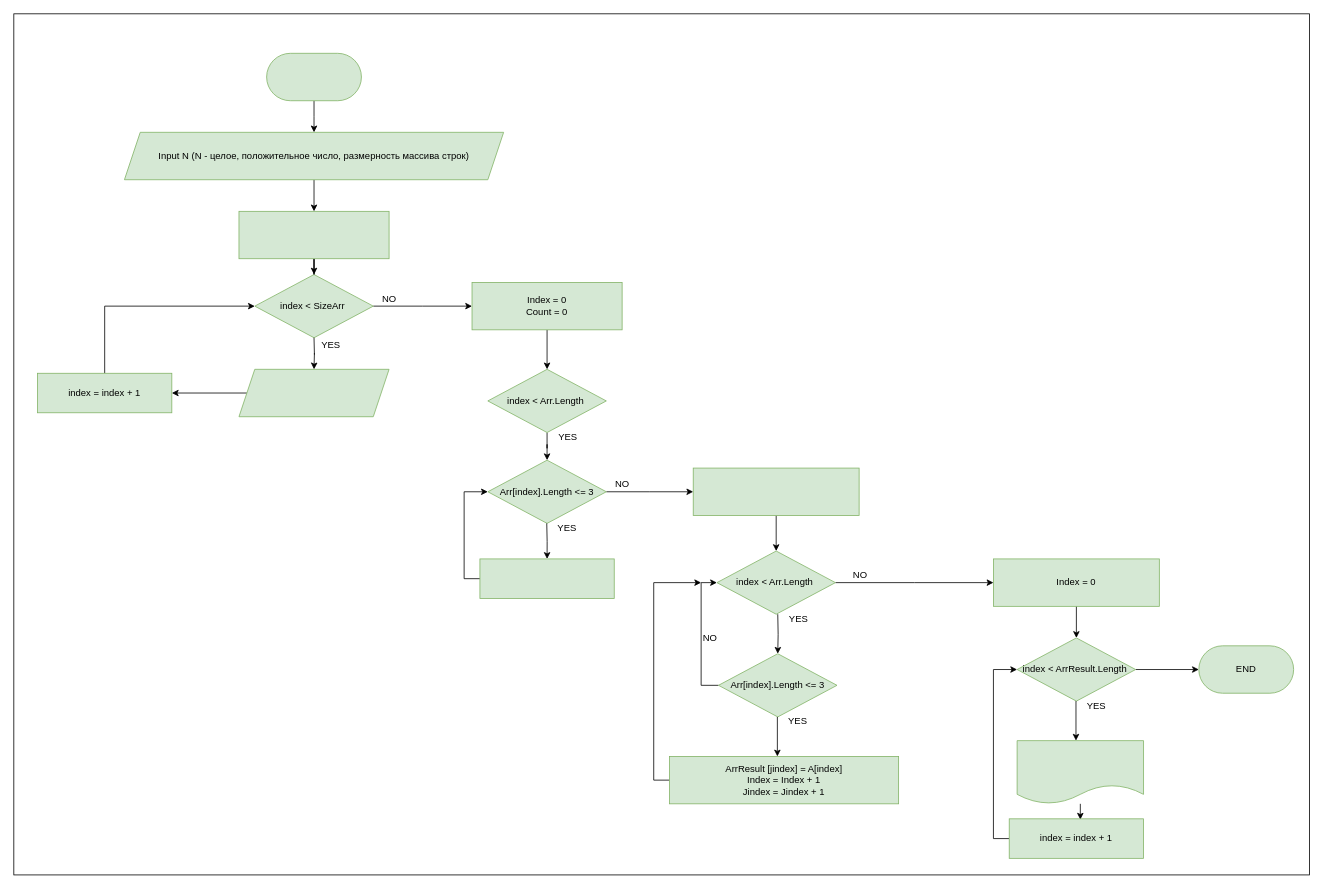
Some shapes in this 1323 by 889 pixel diagram are drawn without their labels. The shapes that lost their labels are listed below. From the top down, each one's centre as x and y in pixels, then its label:
(x=313, y=77): Start
(x=313, y=235): Arr = [ A0, A1, A2 .... An] Index = 0 SizeArr = N
(x=313, y=393): Input Элемент массива Arr[index] = Элемент массива
(x=775, y=491): ArrResult = [ B0, B1, B2 .... Bcount] Index = 0 Jindex = 0
(x=546, y=578): count = count +1
(x=1080, y=772): Print ArrResult [index]
